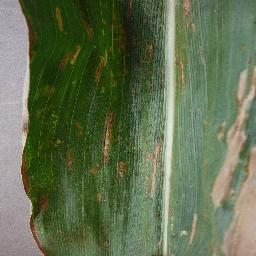Gray_Leaf_Spot: (212, 58, 256, 256), (16, 145, 54, 254), (89, 106, 127, 179), (22, 1, 42, 71), (112, 0, 136, 40), (61, 42, 80, 75), (178, 2, 196, 36), (151, 137, 161, 198), (95, 50, 110, 82), (188, 210, 199, 246), (178, 57, 189, 86), (142, 43, 156, 64), (55, 7, 66, 31), (66, 144, 75, 168), (102, 232, 115, 248), (98, 188, 99, 208)
